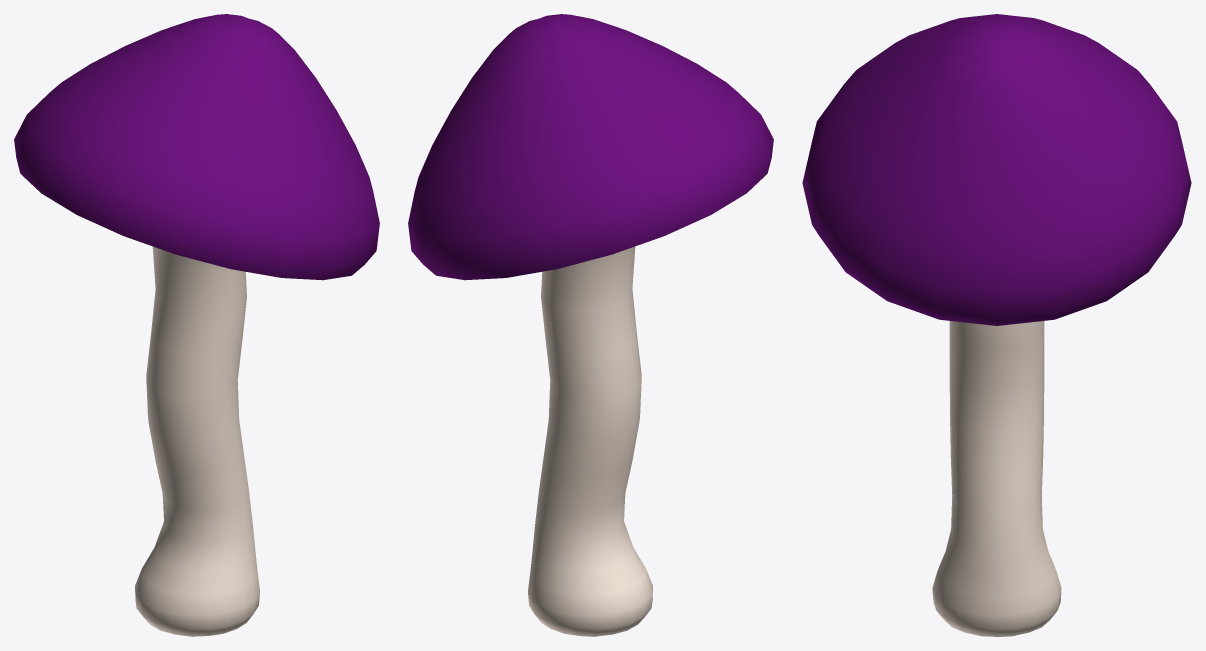
The model's file is mushtree2.fbx.
3 views of the same model, side by side, from view 1: azimuth 30°, elevation 25°; view 2: azimuth 150°, elevation 25°; view 3: azimuth 270°, elevation 25° (orthographic). The views are drawn at different scales.
Visible parts, largest first — view 1: Cylinder.001; view 2: Cylinder.001; view 3: Cylinder.001.
Part boxes in pixels (<box>): Cylinder.001: <box>14,14,379,636</box>; Cylinder.001: <box>408,14,773,636</box>; Cylinder.001: <box>802,14,1191,636</box>.
Size of the model in its own units: 334 by 604 by 349.
